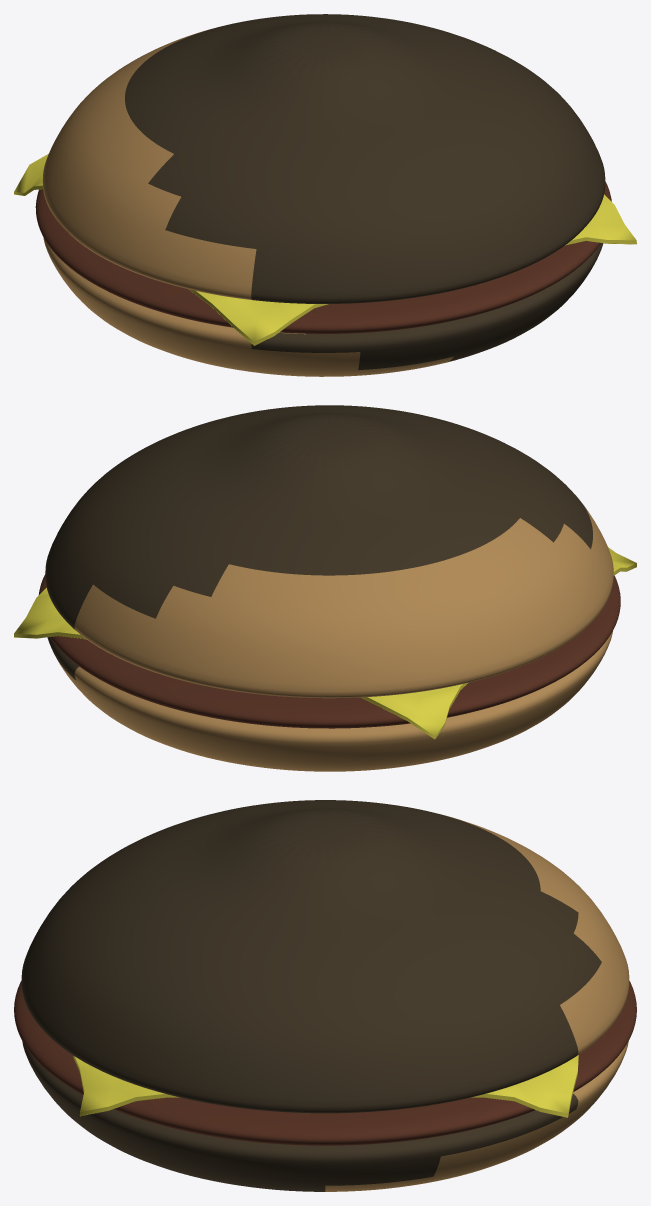
Rendered from burger.fbx.
3 views of the same model, one above another, from view 1: azimuth 30°, elevation 25°; view 2: azimuth 150°, elevation 25°; view 3: azimuth 270°, elevation 25° (orthographic). The views are drawn at different scales.
Visible parts, largest first — view 1: Sphere.002, Sphere.001, Cube; view 2: Sphere.002, Sphere.001, Cube; view 3: Sphere.002, Sphere.001, Cube.
Boxes of the visible parts, left/top/right/bottom form: Sphere.002: left=42, top=14, right=605, bottom=376; Sphere.001: left=35, top=181, right=611, bottom=333; Cube: left=14, top=154, right=636, bottom=345; Sphere.002: left=45, top=405, right=613, bottom=771; Sphere.001: left=38, top=574, right=620, bottom=728; Cube: left=14, top=547, right=636, bottom=739; Sphere.002: left=21, top=800, right=629, bottom=1191; Sphere.001: left=14, top=981, right=636, bottom=1145; Cube: left=73, top=1055, right=578, bottom=1117.
Bounding box in the file's own units: 202 × 95.79 × 202.
